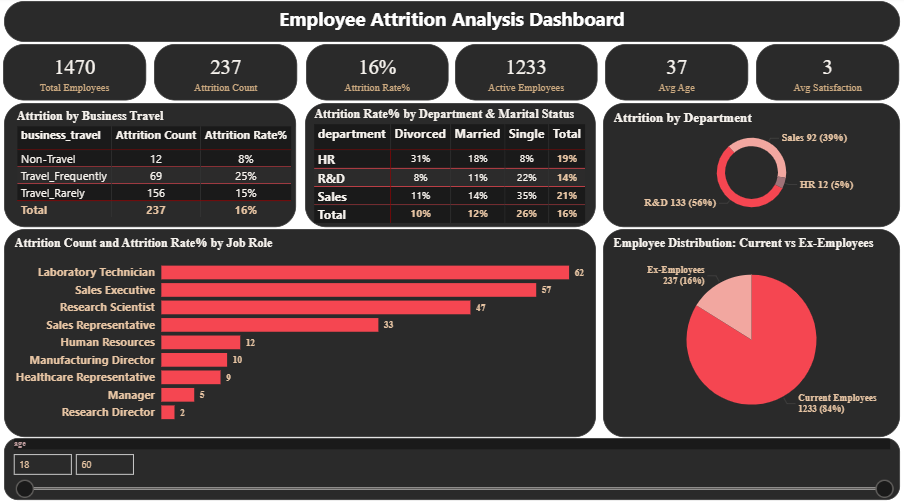

The dashboard page shown, as its layout file describes it:
{"tool":"powerbi","page":{"name":"Page 1","canvas":[1280,720],"ordinal":0},"visuals":[{"type":"card","fields":{"Values":["Measures..Total Employees"]},"box":[4.8,66,203,80],"z":0},{"type":"card","fields":{"Values":["Measures..Attrition Count"]},"box":[218.8,66,203.3,80],"z":1000},{"type":"card","fields":{"Values":["Measures..Attrition Rate%"]},"box":[433,66,201.6,80],"z":2000},{"type":"card","fields":{"Values":["Measures..Active Employees"]},"box":[645.6,66,201.6,80],"z":3000},{"type":"card","fields":{"Values":["Measures..Avg Age"]},"box":[857.7,66,203.3,80],"z":4000},{"type":"card","fields":{"Values":["Measures..Avg Satisfaction"]},"box":[1071.5,66,203.3,80],"z":5000},{"type":"donutChart","title":"Attrition by Department","fields":{"Category":["hrdata.department"],"Y":["Measures..Attrition Count"]},"box":[854.6,150.2,420.9,176],"z":6000},{"type":"clusteredBarChart","title":"Attrition Count and Attrition Rate% by Job Role","fields":{"Category":["hrdata.job_role"],"Y":["Measures..Attrition Count"]},"box":[5.7,328.8,839.1,294.8],"z":7000},{"type":"tableEx","title":"Attrition by Business Travel","fields":{"Values":["hrdata.business_travel","Measures..Attrition Count","Measures..Attrition Rate%"]},"box":[5.7,150.2,413.9,176],"z":8000},{"type":"pivotTable","title":"Attrition Rate% by Department & Marital Status","fields":{"Rows":["hrdata.department"],"Columns":["hrdata.marital_status"],"Values":["Measures..Attrition Rate%"]},"box":[432.3,150.2,412.4,176],"z":9000},{"type":"pieChart","title":"Employee Distribution: Current vs Ex-Employees","fields":{"Category":["hrdata.attrition_label"],"Y":["Measures..Total Employees"]},"box":[854.6,328.8,420.9,294.8],"z":10000},{"type":"textbox","box":[5,5,1270,58],"z":11000},{"type":"slicer","fields":{"Values":["hrdata.age"]},"box":[5.7,625,1270,87.9],"z":12000}]}

Visuals, with their boxes in screenshot pixels (x1, y1, x2, y2), scaled from the page's 1280x720 canvas onto the 904x503 screenshot:
card - Measures..Total Employees: box(3, 46, 147, 102)
card - Measures..Attrition Count: box(155, 46, 298, 102)
card - Measures..Attrition Rate%: box(306, 46, 448, 102)
card - Measures..Active Employees: box(456, 46, 598, 102)
card - Measures..Avg Age: box(606, 46, 749, 102)
card - Measures..Avg Satisfaction: box(757, 46, 900, 102)
"Attrition by Department" donutChart: box(604, 105, 901, 228)
"Attrition Count and Attrition Rate% by Job Role" clusteredBarChart: box(4, 230, 597, 436)
"Attrition by Business Travel" tableEx: box(4, 105, 296, 228)
"Attrition Rate% by Department & Marital Status" pivotTable: box(305, 105, 597, 228)
"Employee Distribution: Current vs Ex-Employees" pieChart: box(604, 230, 901, 436)
textbox: box(4, 3, 900, 44)
slicer - hrdata.age: box(4, 437, 901, 498)
